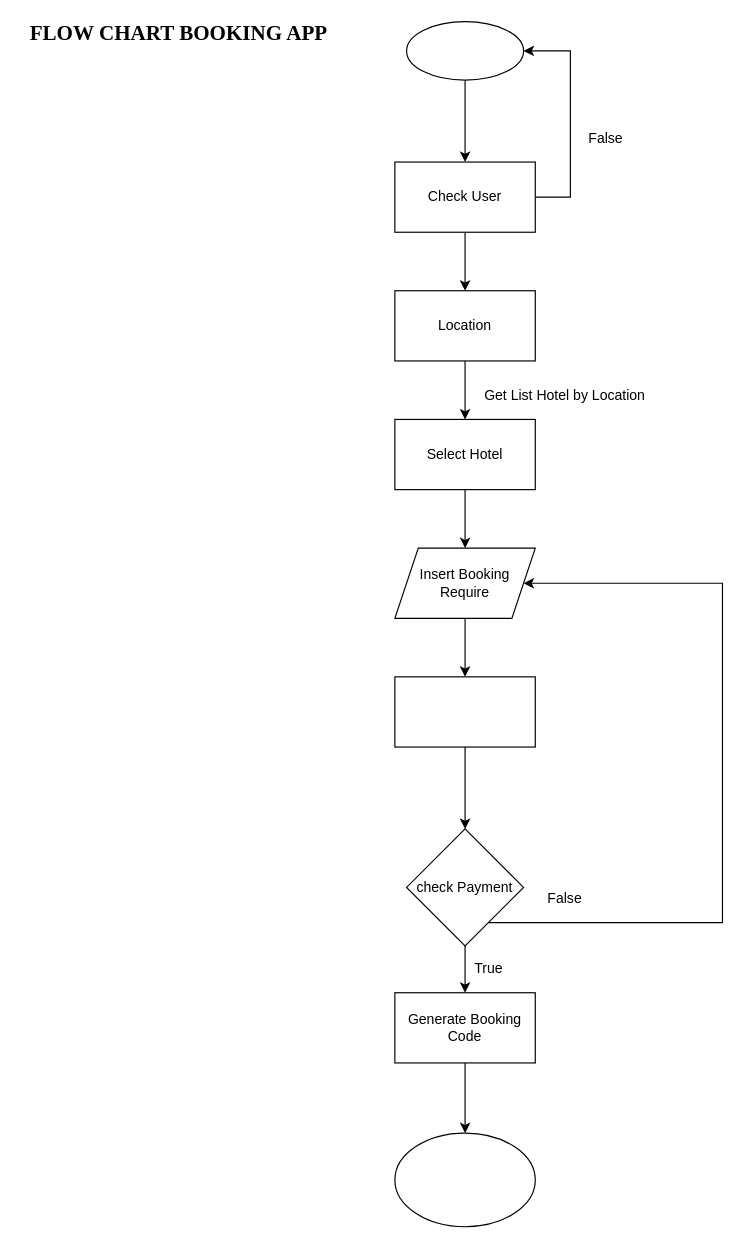
Image size: 752x1247. Some labels were removed from this diagram. Here are the shapes that lost their labels. From the top down, the box of each, then its label:
(405, 20, 524, 80): Login
(394, 676, 535, 747): Payment
(394, 1132, 535, 1227): Exit
